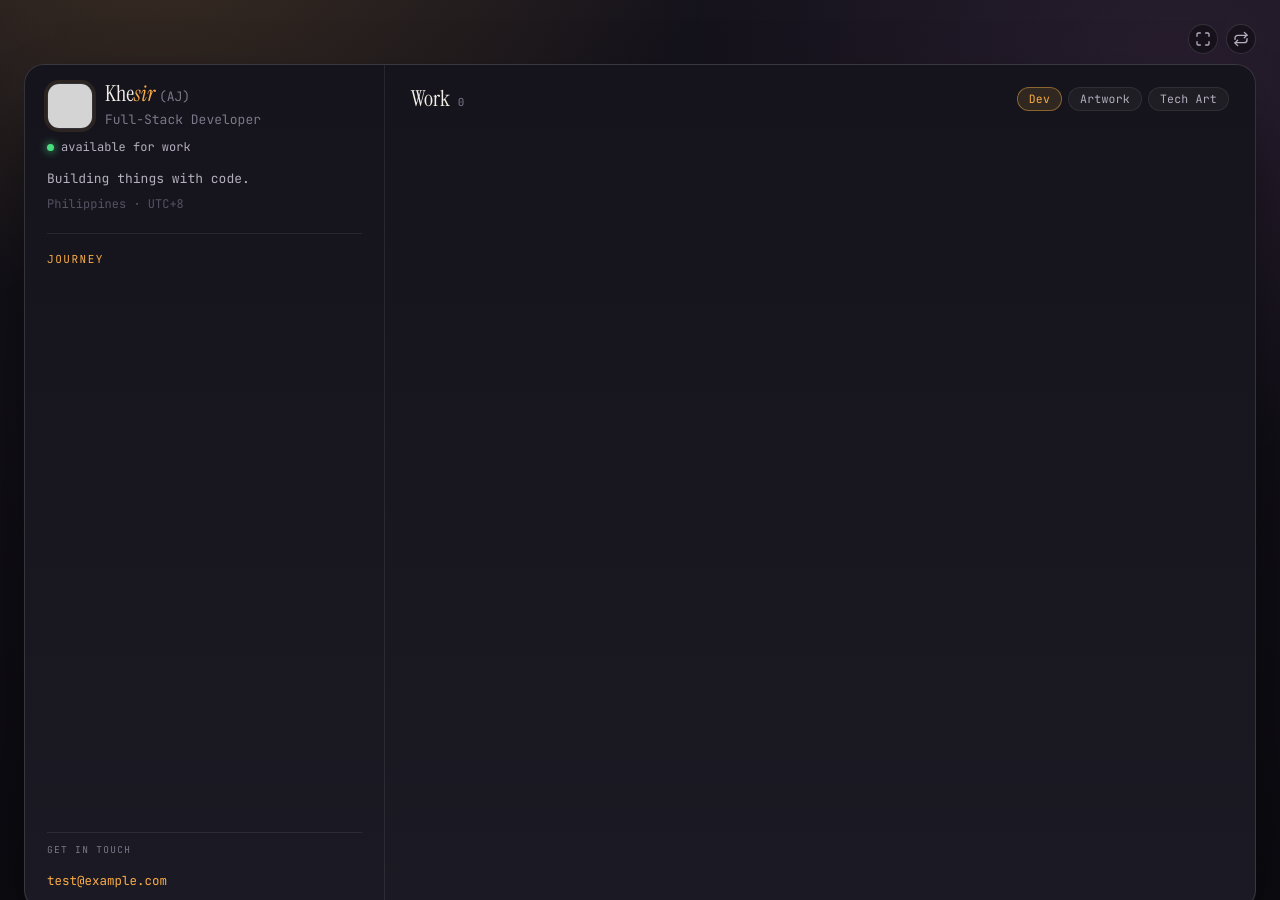
Test: TerminalDashboardPage › toggles fullscreen classes on the shell and page wrapper when the toggle is clicked
Click the button named "Enter fullscreen" at (1203, 39), box [1188,24,1218,54]
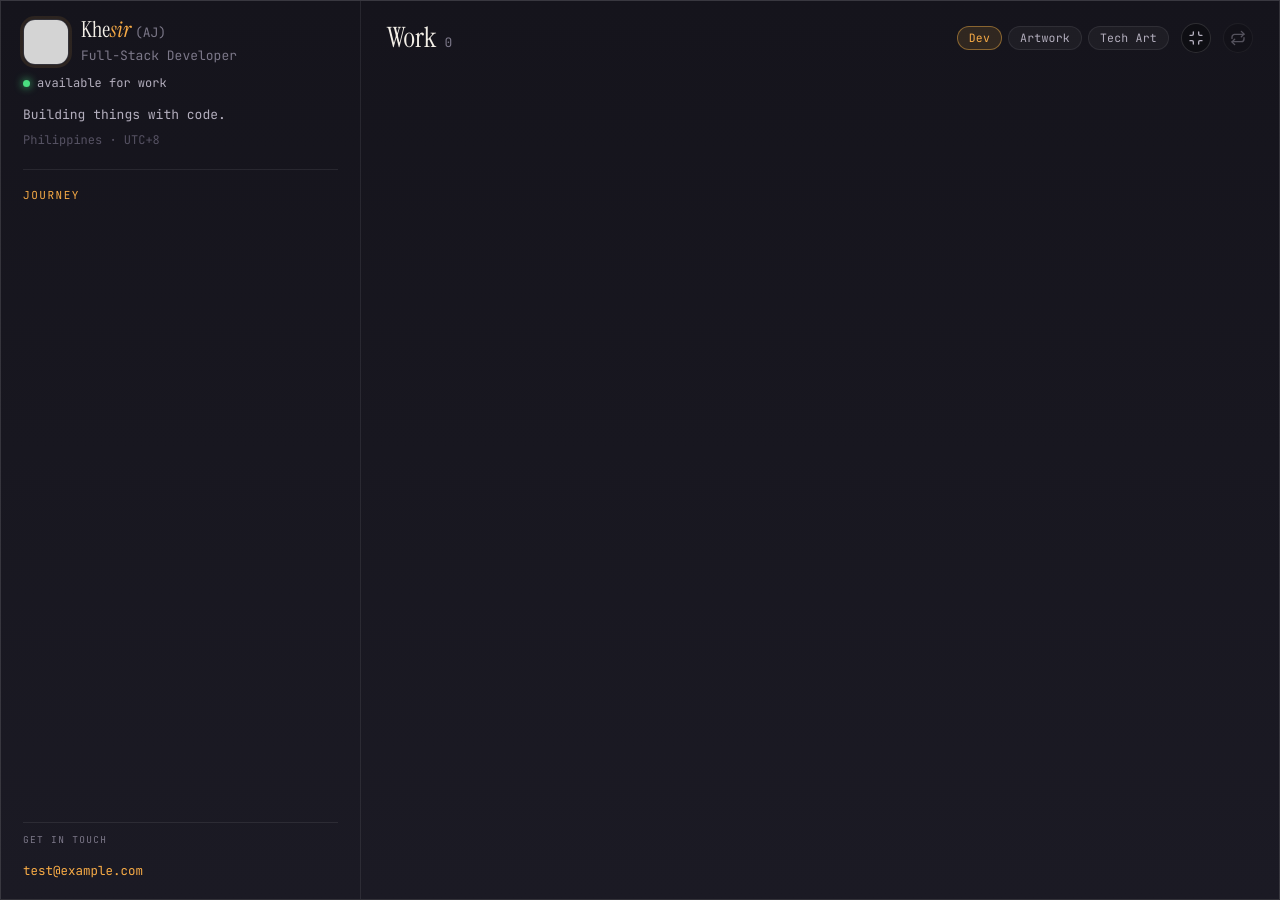
Expected: the element with class "fullscreen" that starts with "Khe" is shown
Expected: the element with class "fullscreen-active" is shown
Expected: the button named "Exit fullscreen" is shown
Click the button named "Exit fullscreen" at (1196, 38), box [1181,23,1211,53]
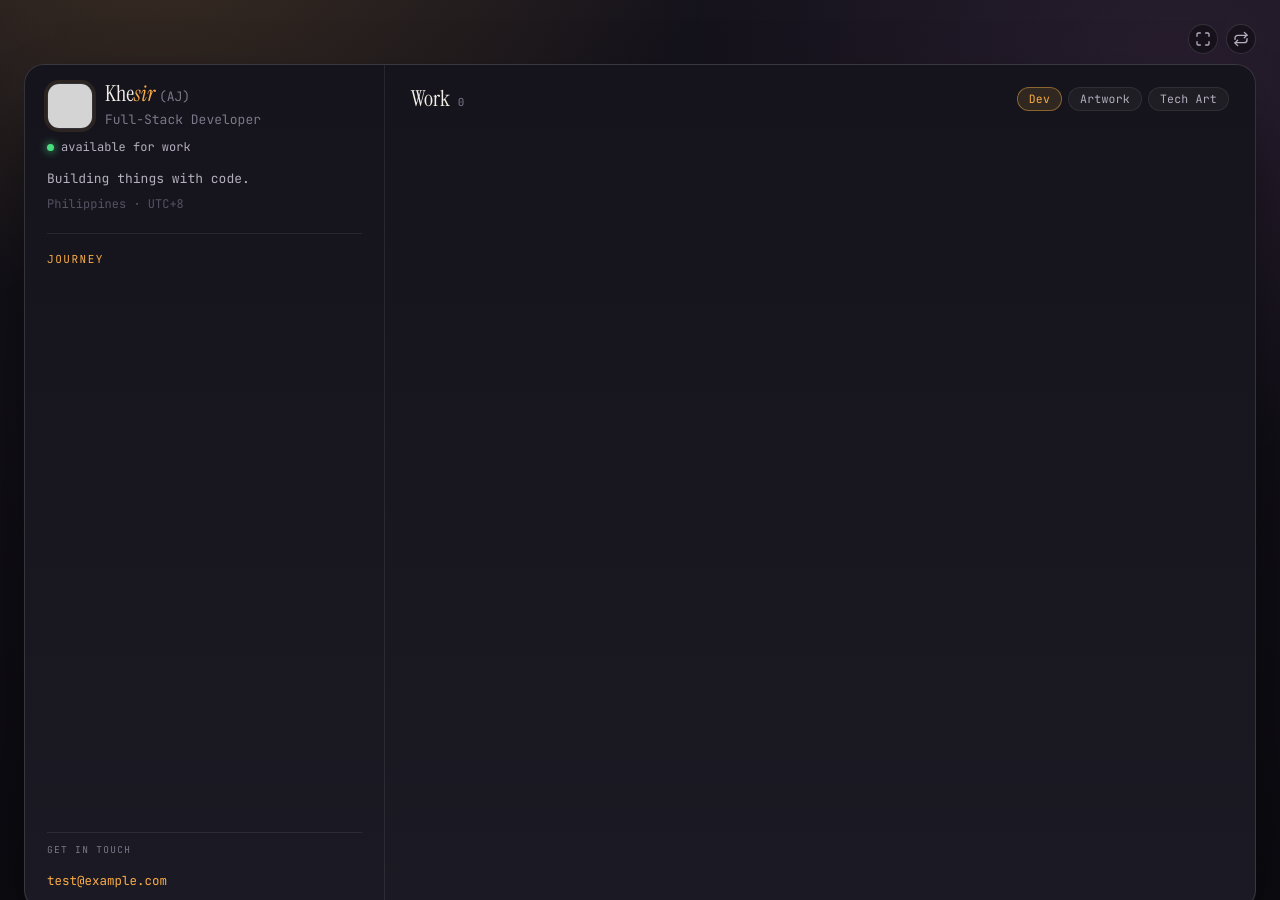
Expected: the button with class "fullscreen" is gone
